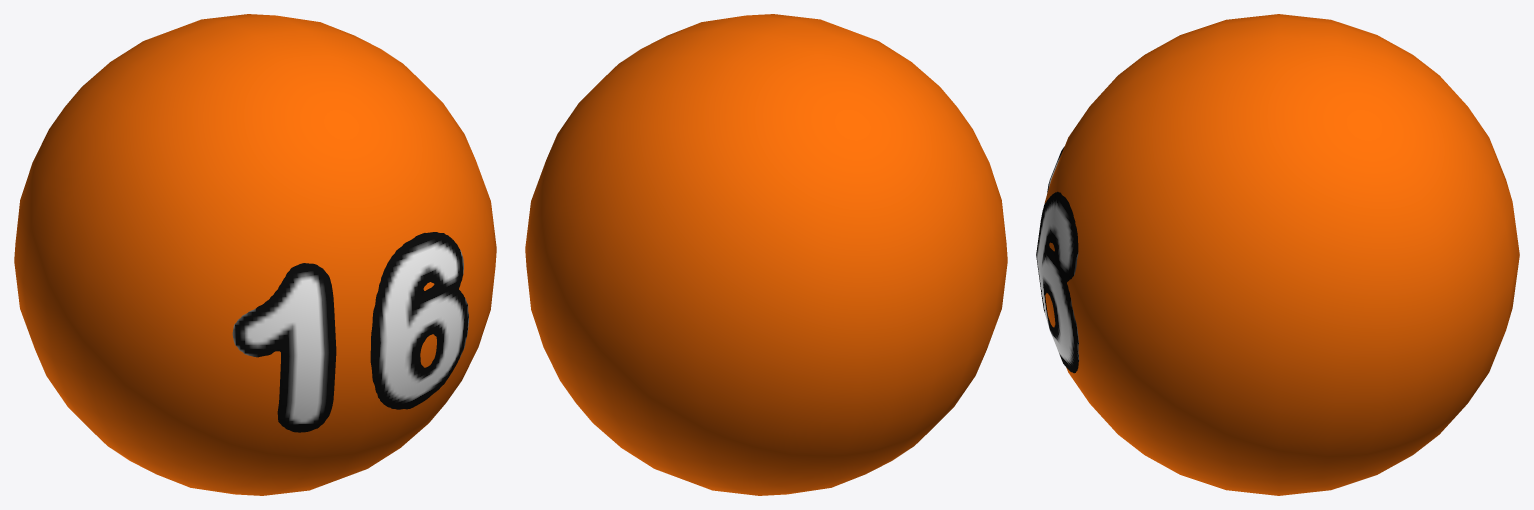
The model's file is Ball 16.fbx.
3 views of the same model, side by side, from view 1: azimuth 30°, elevation 25°; view 2: azimuth 150°, elevation 25°; view 3: azimuth 270°, elevation 25° (orthographic).
Parts seen in each view (by area): view 1: Ball 16; view 2: Ball 16; view 3: Ball 16.
Part boxes in pixels (bbox=[...]): Ball 16: bbox=[14, 14, 496, 495]; Ball 16: bbox=[525, 14, 1007, 495]; Ball 16: bbox=[1036, 14, 1519, 495].
Bounding box in the file's own units: 164 × 164 × 164.
